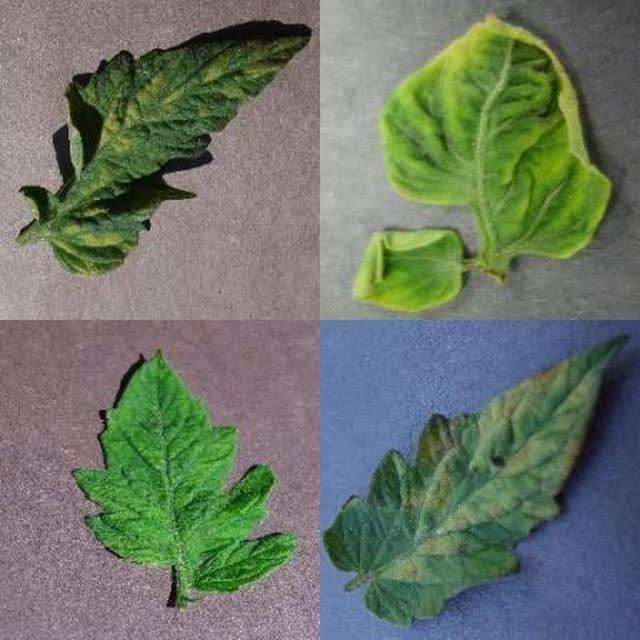Leaf Mold: (160, 115, 640, 640)
